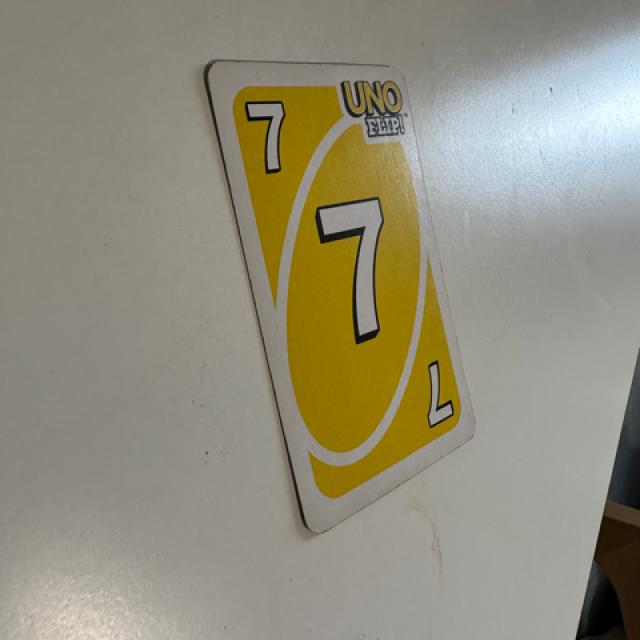lyellow-7: (240, 77, 300, 188)
